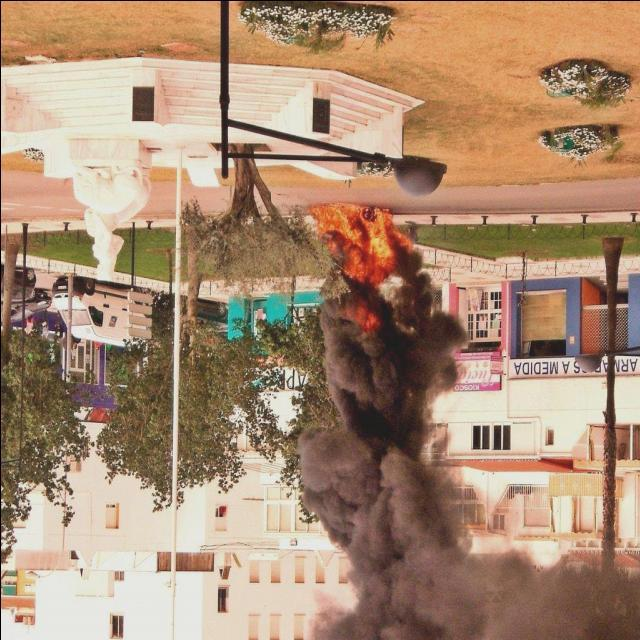Fire: (307, 205, 427, 286), (333, 299, 385, 342)
